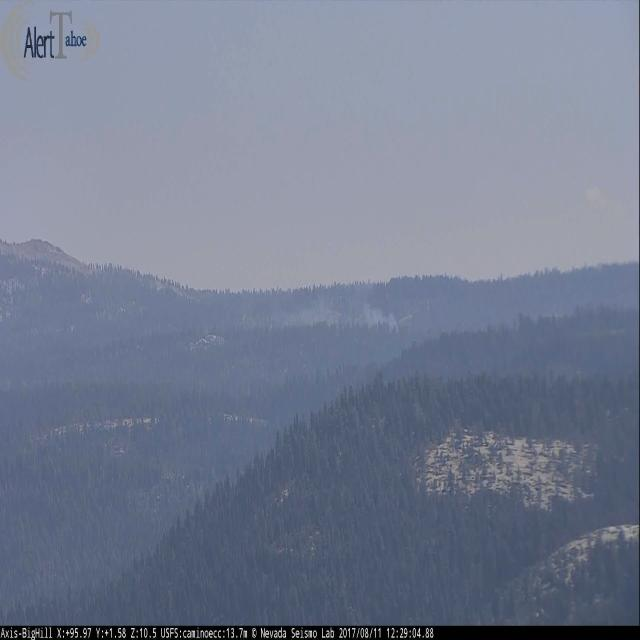smoke: (286, 299, 400, 334)
